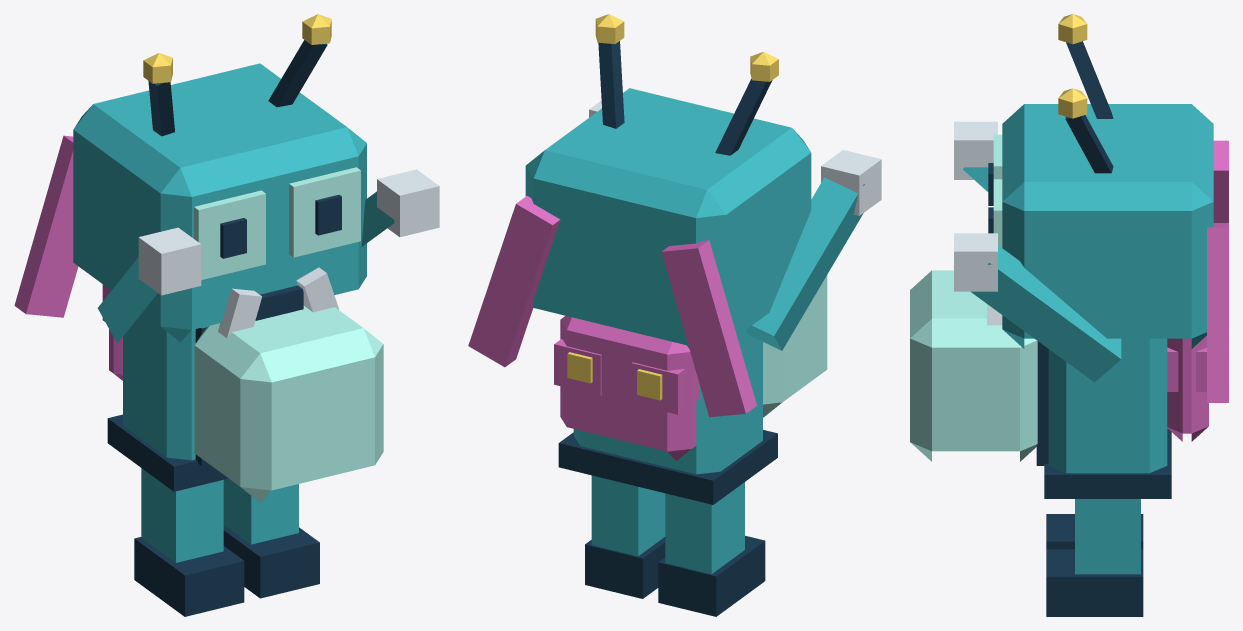
File: blinder_r12.glb
3 renders of one model, left to right at view 1: azimuth 30°, elevation 25°; view 2: azimuth 150°, elevation 25°; view 3: azimuth 270°, elevation 25°, orthographic. The views are drawn at different scales.
Parts seen in each view (by area): view 1: blinder_r12_mesh; view 2: blinder_r12_mesh; view 3: blinder_r12_mesh.
Boxes of the visible parts, x1=… form: blinder_r12_mesh: x1=14, y1=14, x2=439, y2=616; blinder_r12_mesh: x1=468, y1=14, x2=881, y2=616; blinder_r12_mesh: x1=910, y1=14, x2=1228, y2=616.
Bounding box in the file's own units: 0.8582 × 1.6 × 0.8657.
1 material, 1 textured.
